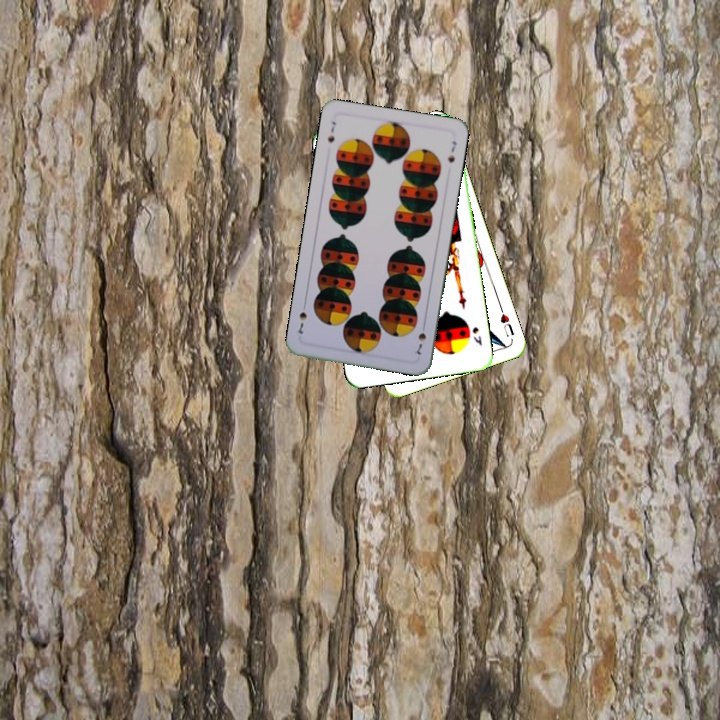HU: (496, 303, 517, 340)
S7: (413, 319, 429, 357), (324, 117, 338, 145)
SK: (468, 323, 484, 348)
